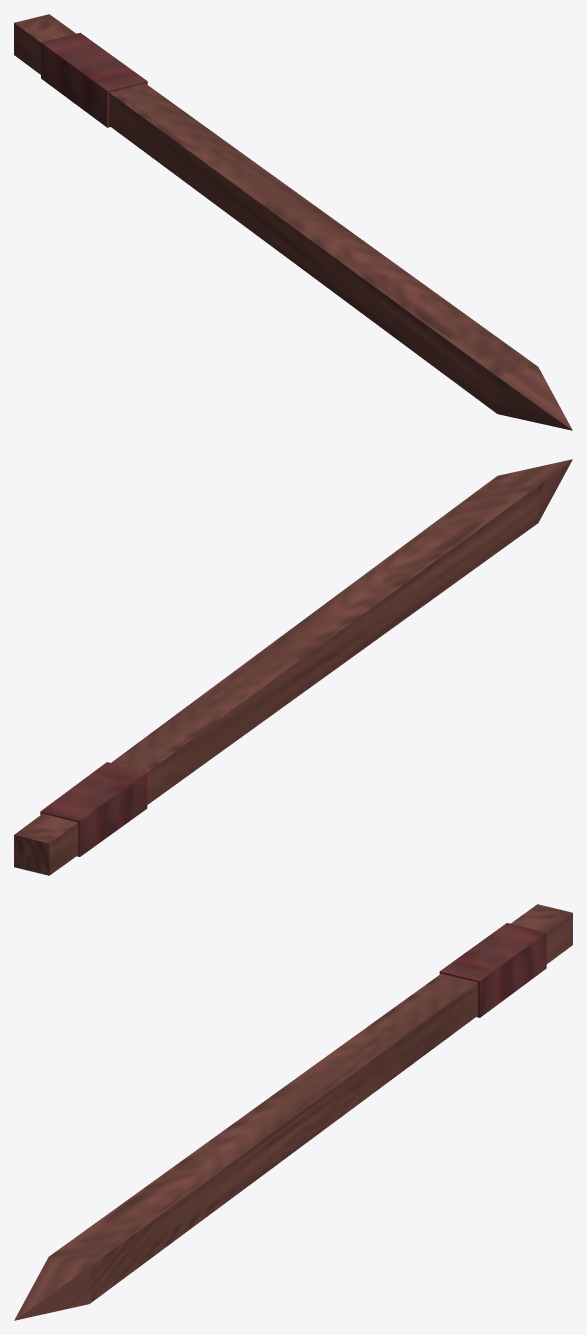
Rendered from spear.fbx.
3 views of the same model, one above another, from view 1: azimuth 30°, elevation 25°; view 2: azimuth 150°, elevation 25°; view 3: azimuth 330°, elevation 25° (orthographic).
Visible parts, largest first — view 1: spear, handle; view 2: spear, handle; view 3: spear, handle.
Part boxes in pixels (x1,y1,x2,y2): spear: [14, 14, 572, 430]; handle: [41, 32, 147, 127]; spear: [14, 459, 572, 875]; handle: [40, 762, 147, 856]; spear: [14, 904, 572, 1320]; handle: [439, 923, 546, 1017].
Bounding box in the file's own units: 30.45 × 26.5 × 697.
Materials: 2 (2 with a texture image).
